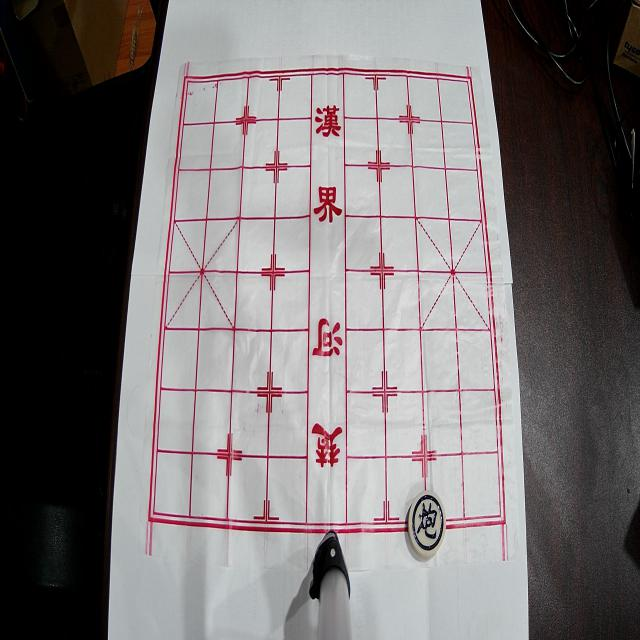black-cannon: (408, 490, 446, 557)
